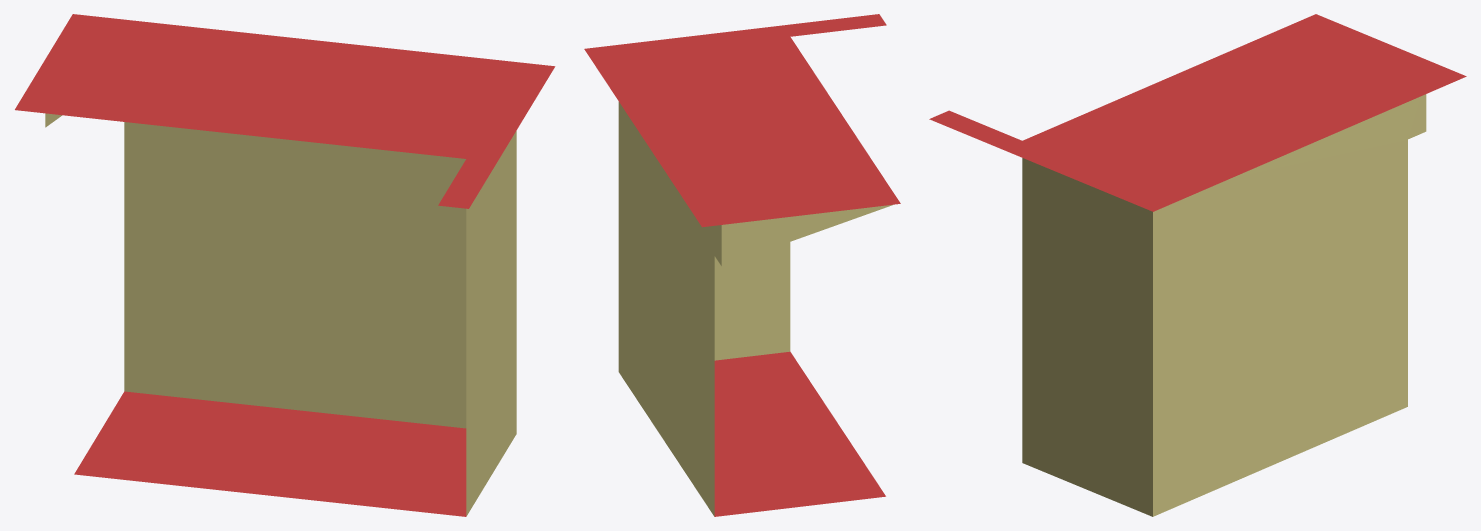
The picture shows the model from 3 angles, left to right: view 1: azimuth 30°, elevation 25°; view 2: azimuth 150°, elevation 25°; view 3: azimuth 270°, elevation 25°; orthographic projection. The views are drawn at different scales.
Bounding box in the file's own units: 12.23 × 14.05 × 9.29.
